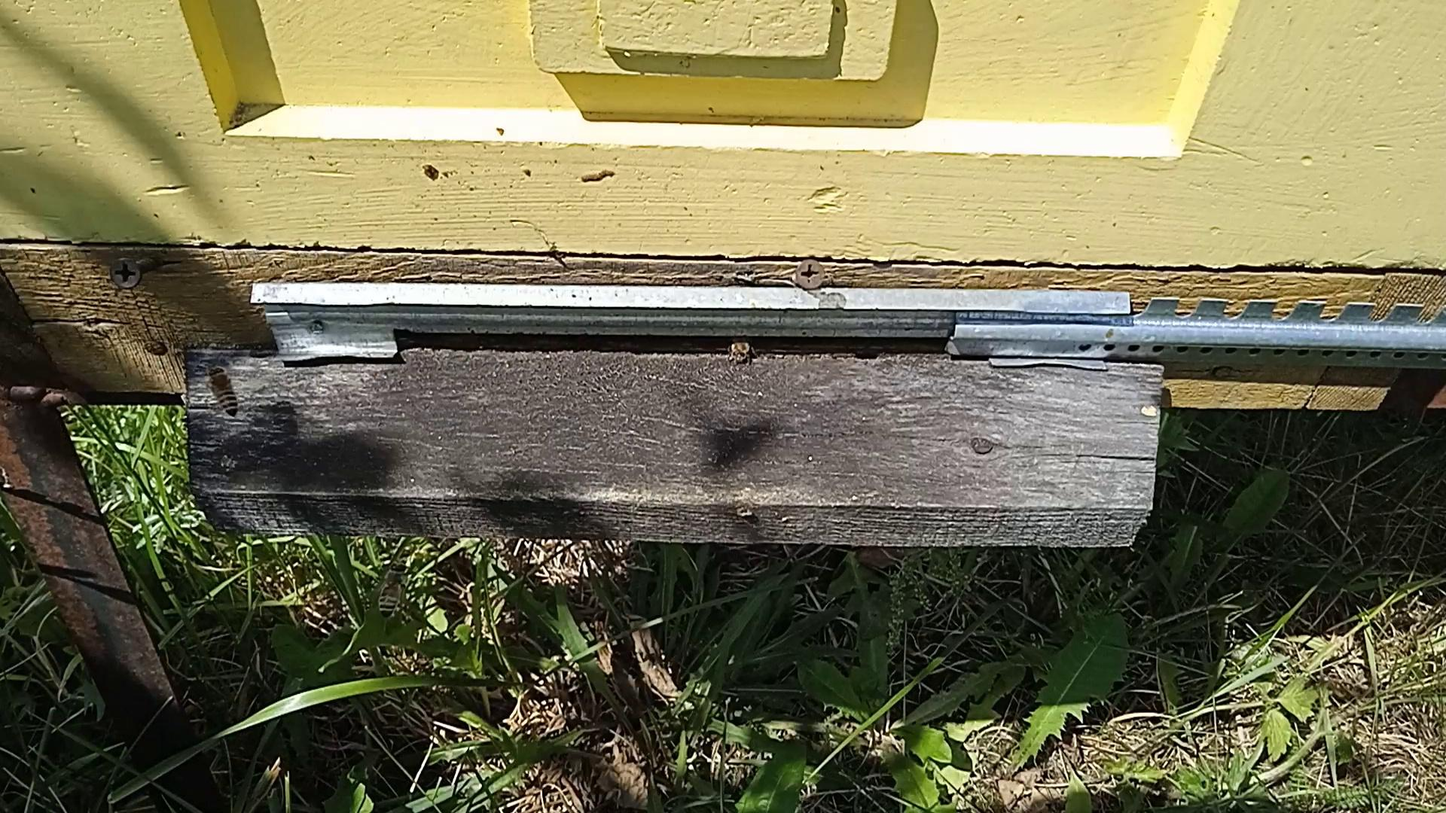worker-bee: (203, 364, 239, 417), (377, 562, 407, 618), (725, 334, 755, 365)
